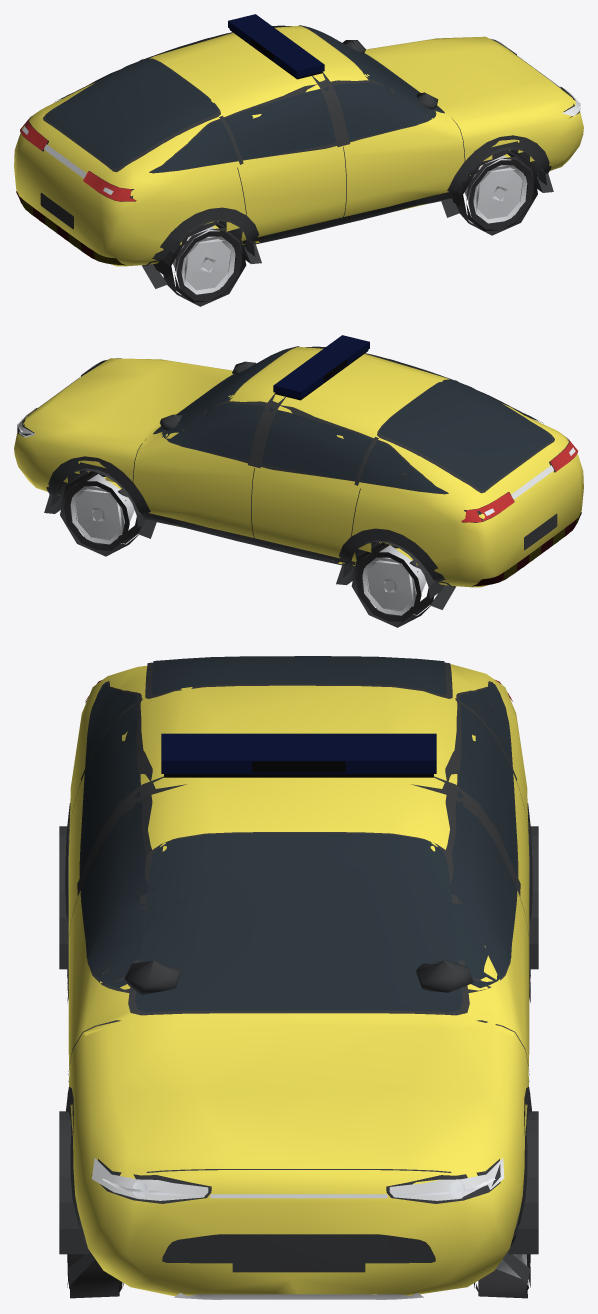
The model's file is smur_vl_far.glb.
3 views of the same model, one above another, from view 1: azimuth 30°, elevation 25°; view 2: azimuth 150°, elevation 25°; view 3: azimuth 270°, elevation 25° (orthographic). The views are drawn at different scales.
Visible parts, largest first — view 1: Body, Glass-1, RearGlass, WheelRR, WheelFR, LightBar, ArchTrim-1.001, ArchTrim-1, Windshield, WinFrame-1, TailLamp, Bpillar-1 (+6 smaller); view 2: Body, Glass1, RearGlass, WheelFL, WheelRL, LightBar, ArchTrim1.001, ArchTrim1, Windshield, WinFrame1, TailLamp, Bpillar1 (+6 smaller); view 3: Body, Windshield, Glass-1, Glass1, LightBar, RearGlass, Intake, HeadReflector, WsFrame, ArchLiner, ArchLiner.001, HeadBezel (+18 smaller).
Part boxes in pixels (bbox=[...]): Body: bbox=[14, 25, 583, 266]; Glass-1: bbox=[152, 80, 435, 172]; RearGlass: bbox=[45, 58, 217, 168]; WheelRR: bbox=[163, 221, 246, 306]; WheelFR: bbox=[456, 150, 537, 235]; LightBar: bbox=[228, 14, 324, 77]; ArchTrim-1.001: bbox=[142, 207, 261, 288]; ArchTrim-1: bbox=[441, 135, 553, 217]; Windshield: bbox=[299, 25, 442, 110]; WinFrame-1: bbox=[149, 80, 436, 173]; TailLamp: bbox=[20, 116, 136, 201]; Bpillar-1: bbox=[312, 72, 349, 146]; Body: bbox=[14, 347, 583, 587]; Glass1: bbox=[162, 401, 445, 493]; RearGlass: bbox=[380, 379, 552, 489]; WheelFL: bbox=[60, 471, 141, 556]; WheelRL: bbox=[351, 542, 434, 627]; LightBar: bbox=[273, 335, 369, 398]; ArchTrim1.001: bbox=[336, 528, 455, 609]; ArchTrim1: bbox=[44, 456, 156, 538]; Windshield: bbox=[155, 346, 298, 431]; WinFrame1: bbox=[161, 401, 448, 494]; TailLamp: bbox=[461, 439, 577, 522]; Bpillar1: bbox=[248, 393, 285, 467]; Body: bbox=[68, 664, 529, 1295]; Windshield: bbox=[135, 833, 462, 1012]; Glass-1: bbox=[80, 682, 201, 988]; Glass1: bbox=[396, 682, 516, 988]; LightBar: bbox=[161, 733, 436, 773]; RearGlass: bbox=[151, 656, 446, 694]; Intake: bbox=[162, 1234, 435, 1263]; HeadReflector: bbox=[91, 1158, 504, 1200]; WsFrame: bbox=[128, 832, 469, 1015]; ArchLiner: bbox=[507, 1111, 538, 1254]; ArchLiner.001: bbox=[59, 1111, 90, 1254]; HeadBezel: bbox=[91, 1159, 500, 1203].
Bounding box in the file's own units: 4.56 × 1.7 × 1.95.
